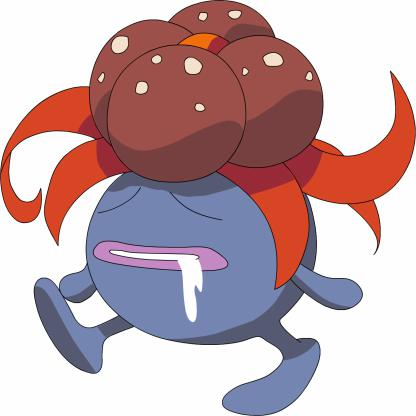Gloom: (3, 1, 416, 416)
